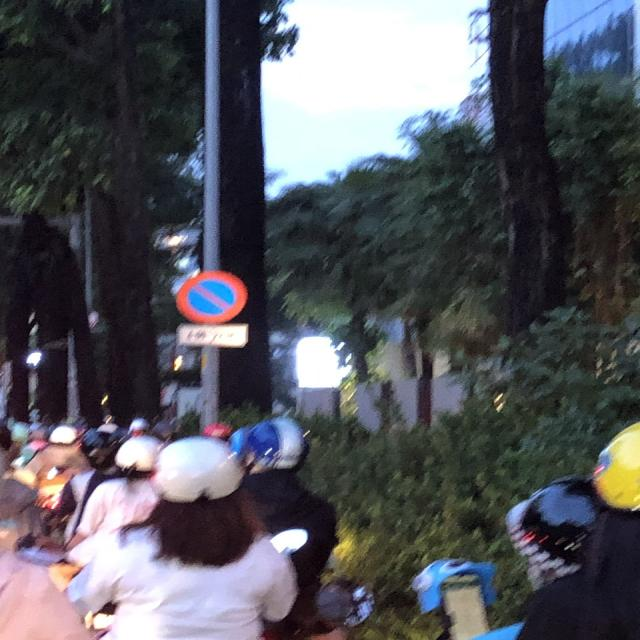Bien bao cam do xe: (170, 264, 253, 326)
